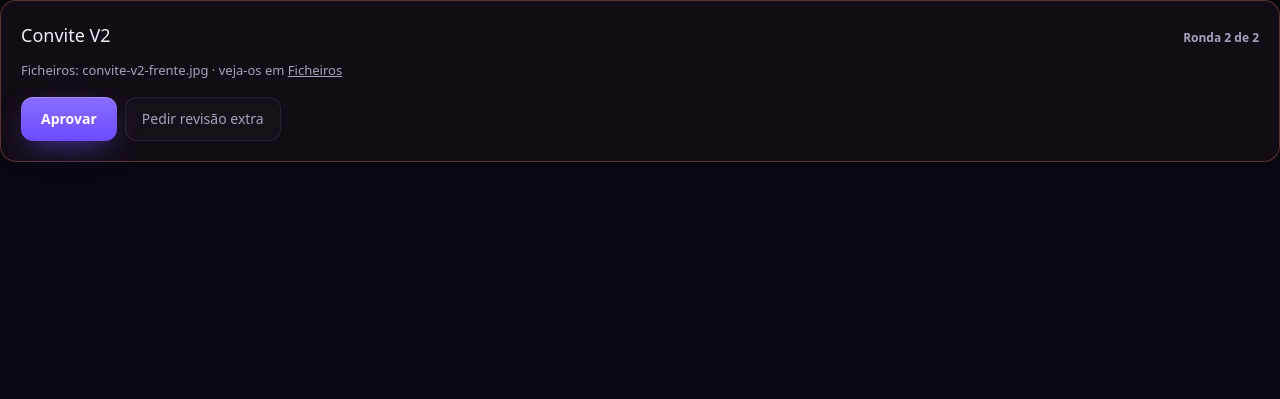
ApprovalCard com rondas › 'Voltar e aprovar' leva à confirmação da aprovação
The image size is (1280, 399).
Click the button "Pedir revisão extra": click(203, 118) [125,96,281,140]
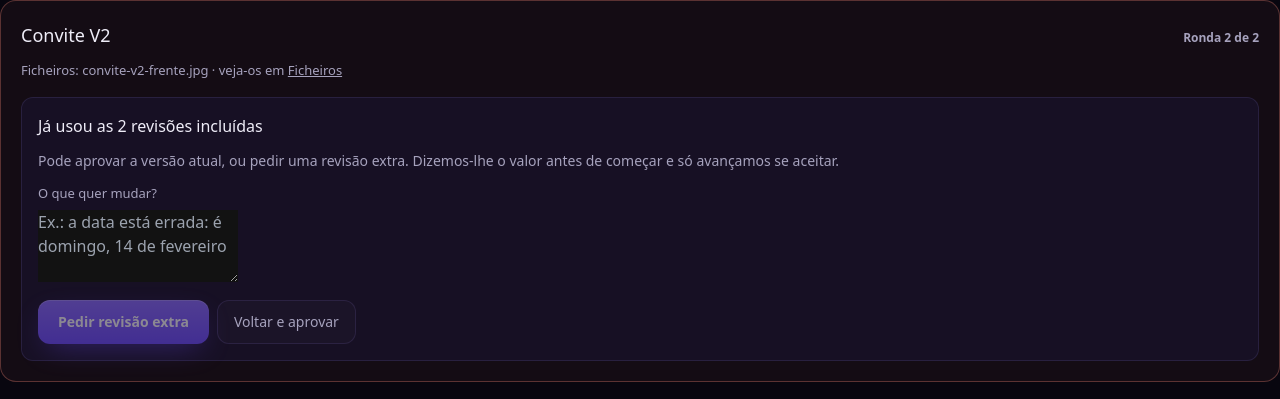
Click the button "Voltar e aprovar": click(286, 322) [217,300,356,344]
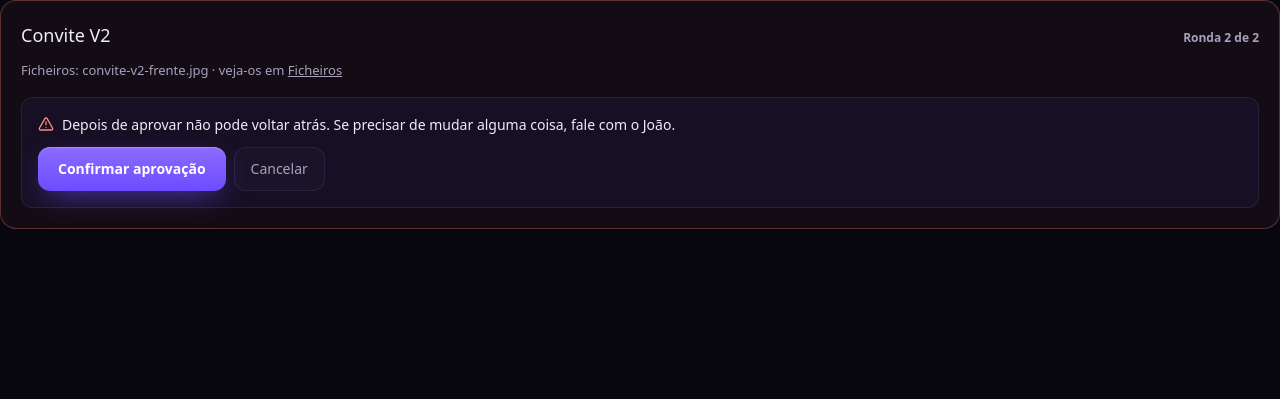
Check: the button "Confirmar aprovação" is shown, box [38,146,226,190]
